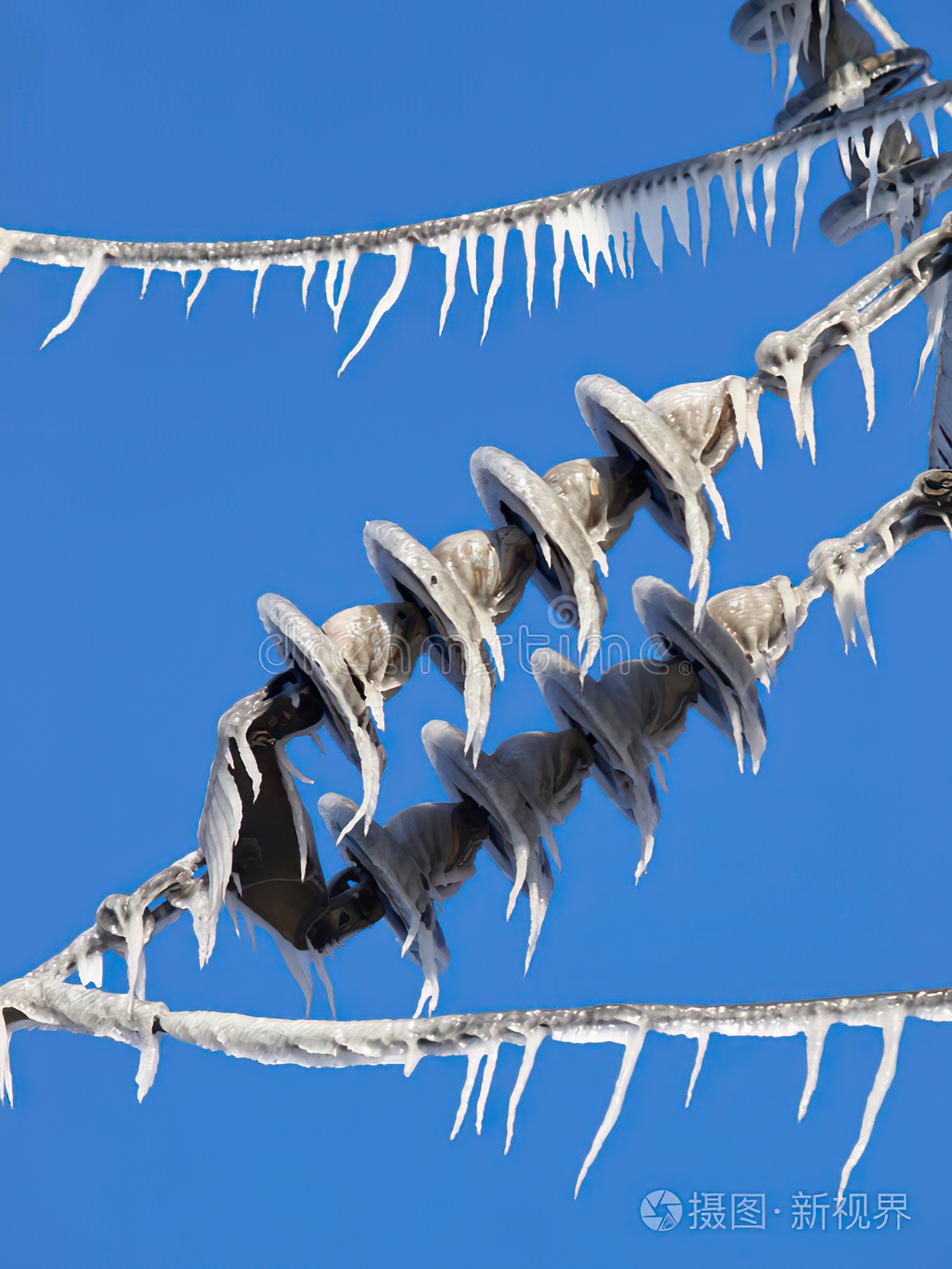insulator: (322, 570, 771, 987), (262, 376, 720, 764)
